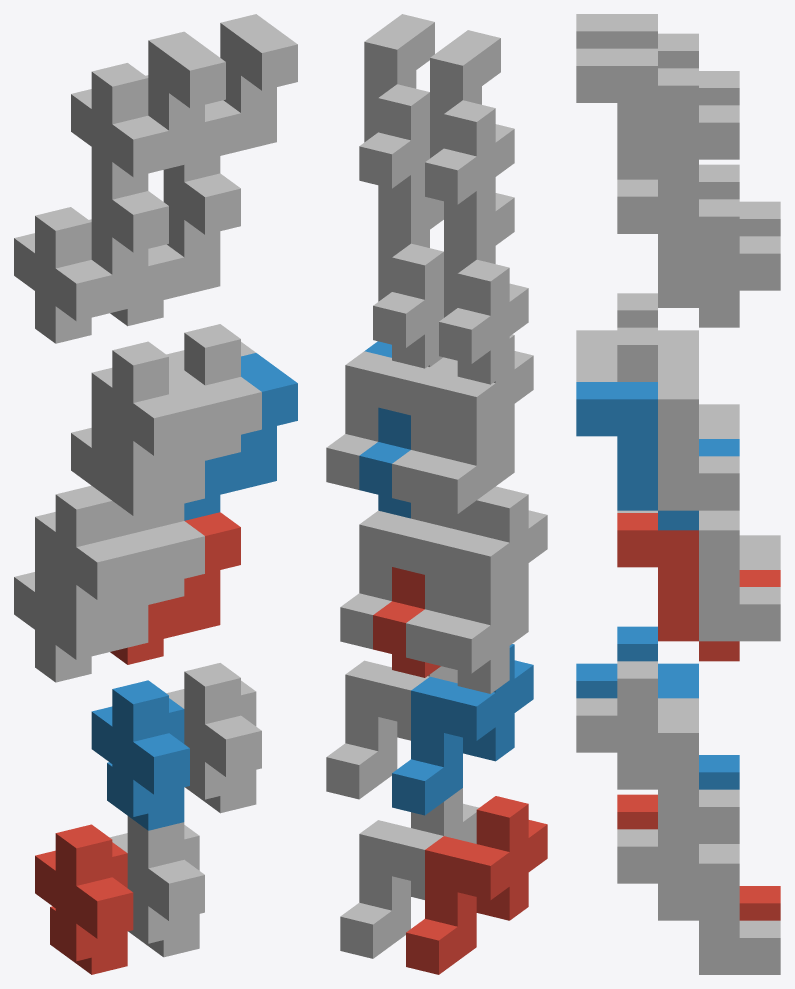
Rendered from tiling.obj.
The picture shows the model from 3 angles, left to right: view 1: azimuth 30°, elevation 25°; view 2: azimuth 150°, elevation 25°; view 3: azimuth 270°, elevation 25°; orthographic projection. The views are drawn at different scales.
Visible parts, largest first — view 1: copy_2_domain_4, copy_2_domain_3, copy_1_domain_1, copy_1_domain_2, copy_2_domain_1, copy_2_domain_2, copy_1_domain_6, copy_2_domain_8, copy_1_domain_4, copy_1_domain_3, copy_2_domain_7, copy_1_domain_5 (+4 smaller); view 2: copy_1_domain_1, copy_2_domain_4, copy_1_domain_2, copy_1_domain_3, copy_2_domain_8, copy_2_domain_3, copy_1_domain_5, copy_2_domain_7, copy_1_domain_4, copy_1_domain_6, copy_2_domain_1, copy_1_domain_7 (+4 smaller); view 3: copy_1_domain_6, copy_2_domain_8, copy_2_domain_7, copy_1_domain_5, copy_1_domain_8, copy_2_domain_6, copy_2_domain_5, copy_1_domain_7, copy_1_domain_2, copy_2_domain_4, copy_1_domain_4, copy_2_domain_3 (+4 smaller).
Part boxes in pixels (left/top/right/bottom): copy_2_domain_4: left=71, top=31, right=225, bottom=199; copy_2_domain_3: left=14, top=185, right=168, bottom=343; copy_1_domain_1: left=35, top=824, right=133, bottom=974; copy_1_domain_2: left=91, top=680, right=189, bottom=830; copy_2_domain_1: left=14, top=529, right=168, bottom=682; copy_2_domain_2: left=71, top=370, right=225, bottom=538; copy_1_domain_6: left=166, top=663, right=261, bottom=813; copy_2_domain_8: left=145, top=14, right=297, bottom=181; copy_1_domain_4: left=91, top=341, right=189, bottom=478; copy_1_domain_3: left=35, top=485, right=133, bottom=622; copy_2_domain_7: left=89, top=169, right=240, bottom=326; copy_1_domain_5: left=110, top=816, right=204, bottom=957; copy_1_domain_1: left=406, top=796, right=547, bottom=974; copy_2_domain_4: left=425, top=30, right=514, bottom=224; copy_1_domain_2: left=392, top=644, right=533, bottom=815; copy_1_domain_3: left=406, top=486, right=547, bottom=665; copy_2_domain_8: left=359, top=14, right=434, bottom=208; copy_2_domain_3: left=439, top=193, right=528, bottom=384; copy_1_domain_5: left=340, top=788, right=478, bottom=958; copy_2_domain_7: left=373, top=197, right=443, bottom=368; copy_1_domain_4: left=392, top=334, right=533, bottom=505; copy_1_domain_6: left=326, top=660, right=457, bottom=799; copy_2_domain_1: left=439, top=577, right=528, bottom=693; copy_1_domain_7: left=340, top=503, right=443, bottom=649; copy_1_domain_6: left=576, top=661, right=739, bottom=843; copy_2_domain_8: left=576, top=48, right=739, bottom=196; copy_2_domain_7: left=617, top=179, right=780, bottom=327; copy_1_domain_5: left=617, top=829, right=780, bottom=974; copy_1_domain_8: left=576, top=327, right=739, bottom=510; copy_2_domain_6: left=576, top=382, right=739, bottom=530; copy_2_domain_5: left=617, top=513, right=780, bottom=661; copy_1_domain_7: left=617, top=510, right=780, bottom=641; copy_1_domain_2: left=576, top=626, right=739, bottom=789; copy_2_domain_4: left=576, top=14, right=739, bottom=105; copy_1_domain_4: left=576, top=293, right=739, bottom=438; copy_2_domain_3: left=617, top=164, right=780, bottom=236.
Bounding box in the file's own units: 5 × 25 × 5.
